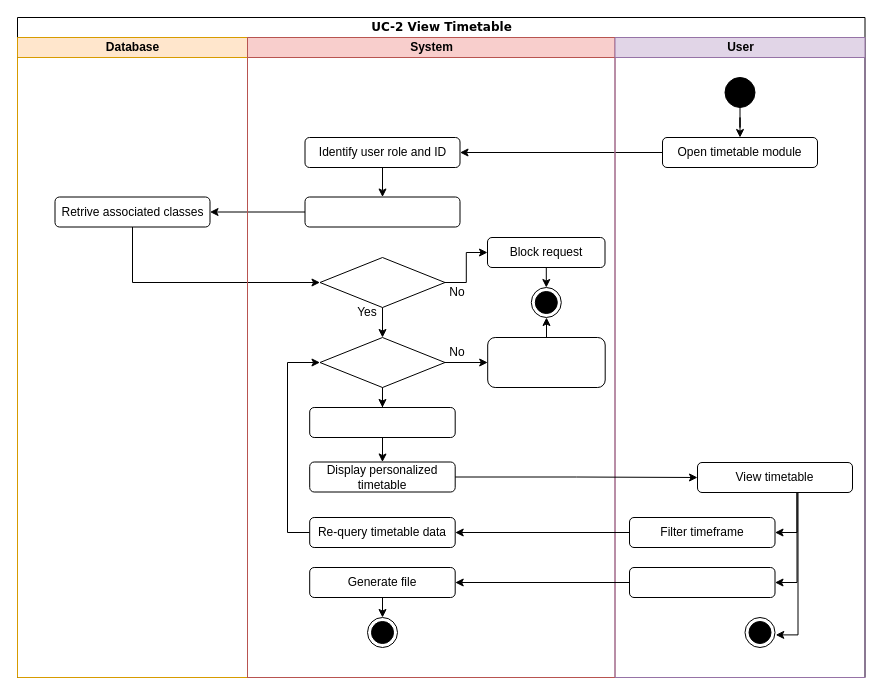
Some shapes in this 883 by 695 pixel diagram are drawn without their labels. Here are the shapes that lost their labels. From the top down, the centre of each, then its label:
(x=382, y=211): Request timetable data
(x=382, y=282): Authorized?
(x=382, y=362): Any classes scheduled?
(x=546, y=362): Show "No classes scheduled for selected period"
(x=382, y=422): Format timetable into weekly / semester view
(x=701, y=582): Export timetable
